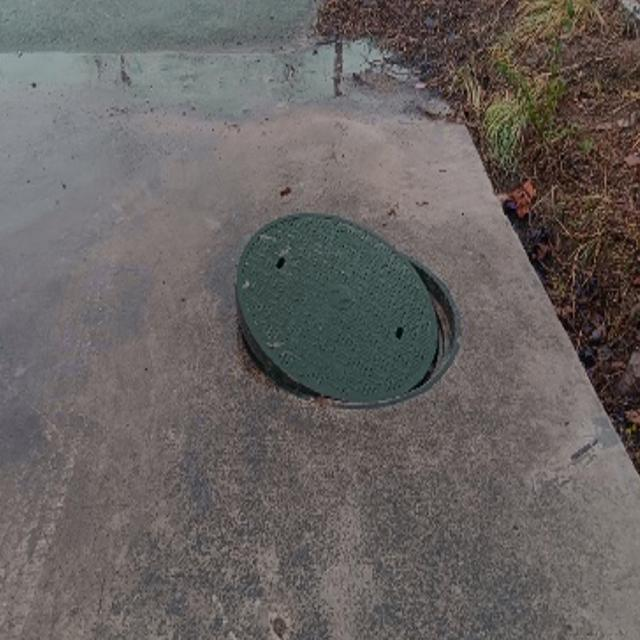uncovered: (236, 210, 461, 404)
